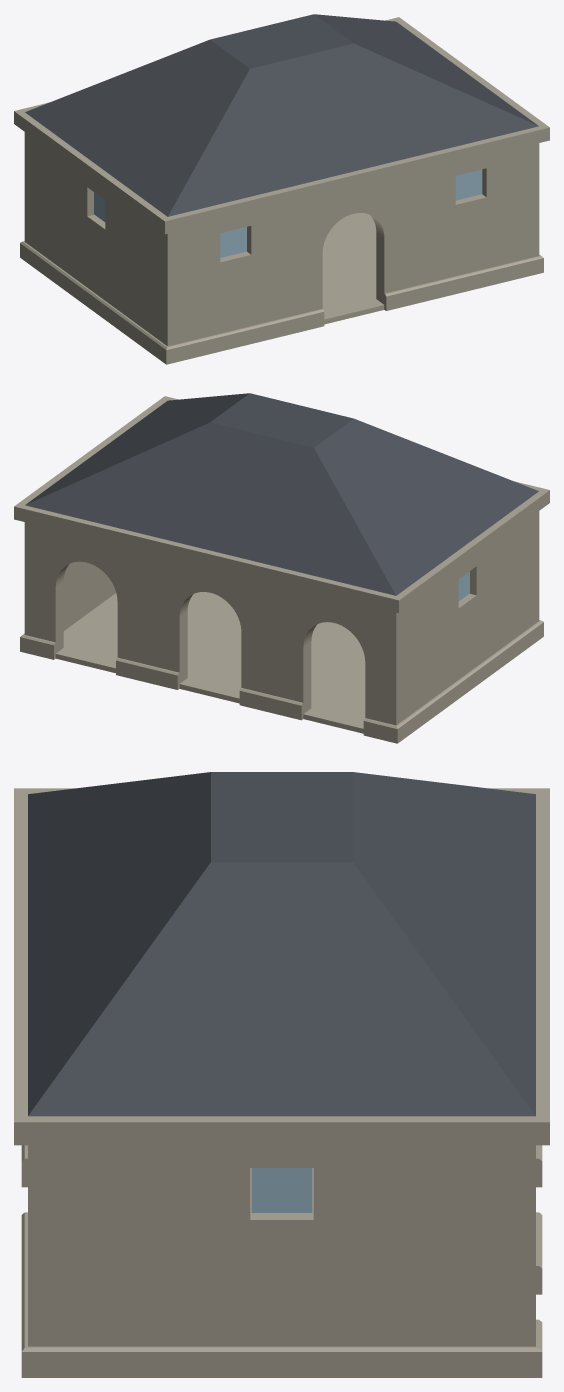
3 renders of one model, top to bottom at view 1: azimuth 30°, elevation 25°; view 2: azimuth 150°, elevation 25°; view 3: azimuth 270°, elevation 25°, orthographic. The views are drawn at different scales.
Visible parts, largest first — view 1: roof_slate, body_stone, trim_stone, glass_glass (×2); view 2: body_stone, roof_slate, trim_stone; view 3: roof_slate, body_stone, trim_stone, glass_glass.
Boxes of the visible parts, box(x1,y1,x2,y2) form: roof_slate: box(25, 14, 538, 216); body_stone: box(24, 132, 539, 346); trim_stone: box(14, 17, 549, 364); glass_glass (×2): box(220, 169, 482, 257); body_stone: box(24, 511, 539, 733); roof_slate: box(25, 393, 538, 595); trim_stone: box(14, 396, 549, 743); roof_slate: box(28, 772, 535, 1116); body_stone: box(28, 1145, 535, 1346); trim_stone: box(14, 788, 549, 1377); glass_glass: box(251, 1168, 312, 1212).
Size of what is drawn, in the model's own units: 12.44 by 6.9 by 8.44.
